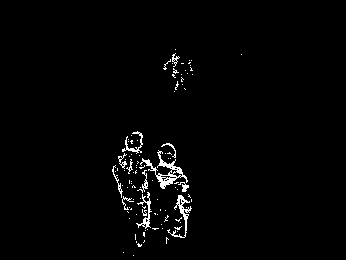person: (150, 141, 192, 245), (115, 130, 151, 249), (163, 47, 194, 95)
